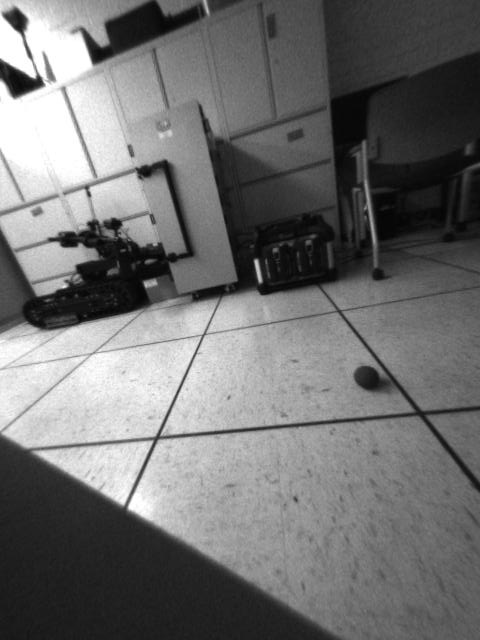dogtoy: (348, 358, 390, 398)
